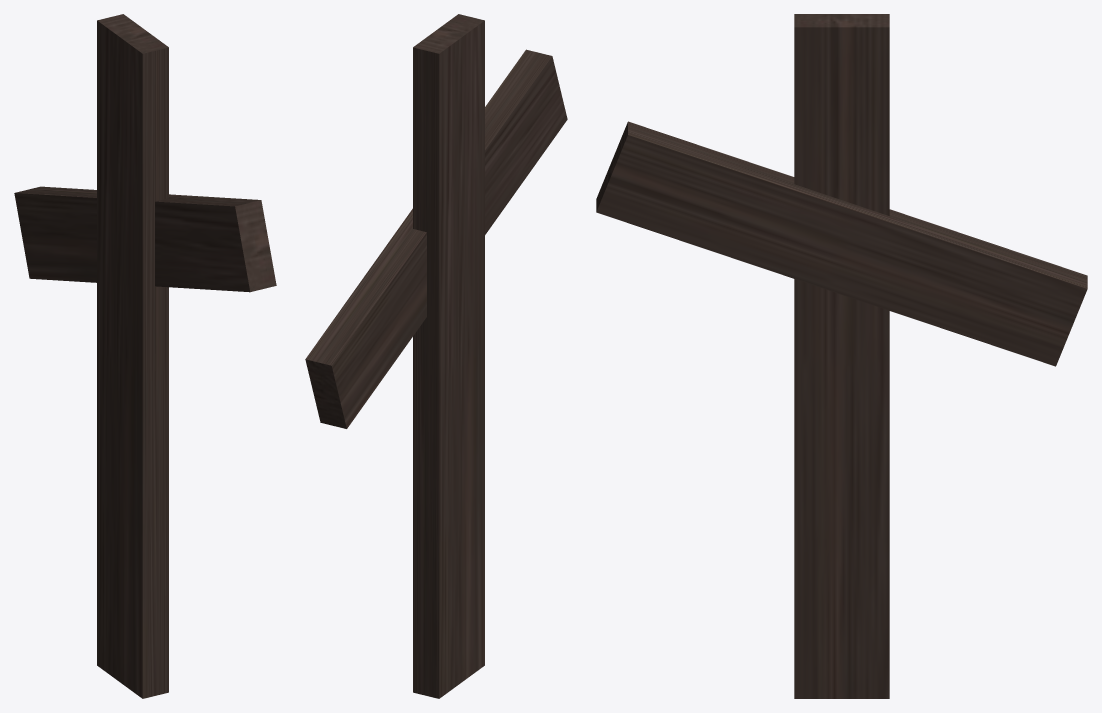
File: kysCross.fbx
3 renders of one model, left to right at view 1: azimuth 30°, elevation 25°; view 2: azimuth 150°, elevation 25°; view 3: azimuth 270°, elevation 25°, orthographic. The views are drawn at different scales.
Visible parts, largest first — view 1: Cross; view 2: Cross; view 3: Cross.
Boxes of the visible parts, x1=… form: Cross: x1=14, y1=14, x2=276, y2=698; Cross: x1=305, y1=14, x2=567, y2=698; Cross: x1=596, y1=14, x2=1087, y2=698.
Bounding box in the file's own units: 14.87 × 237 × 157.
